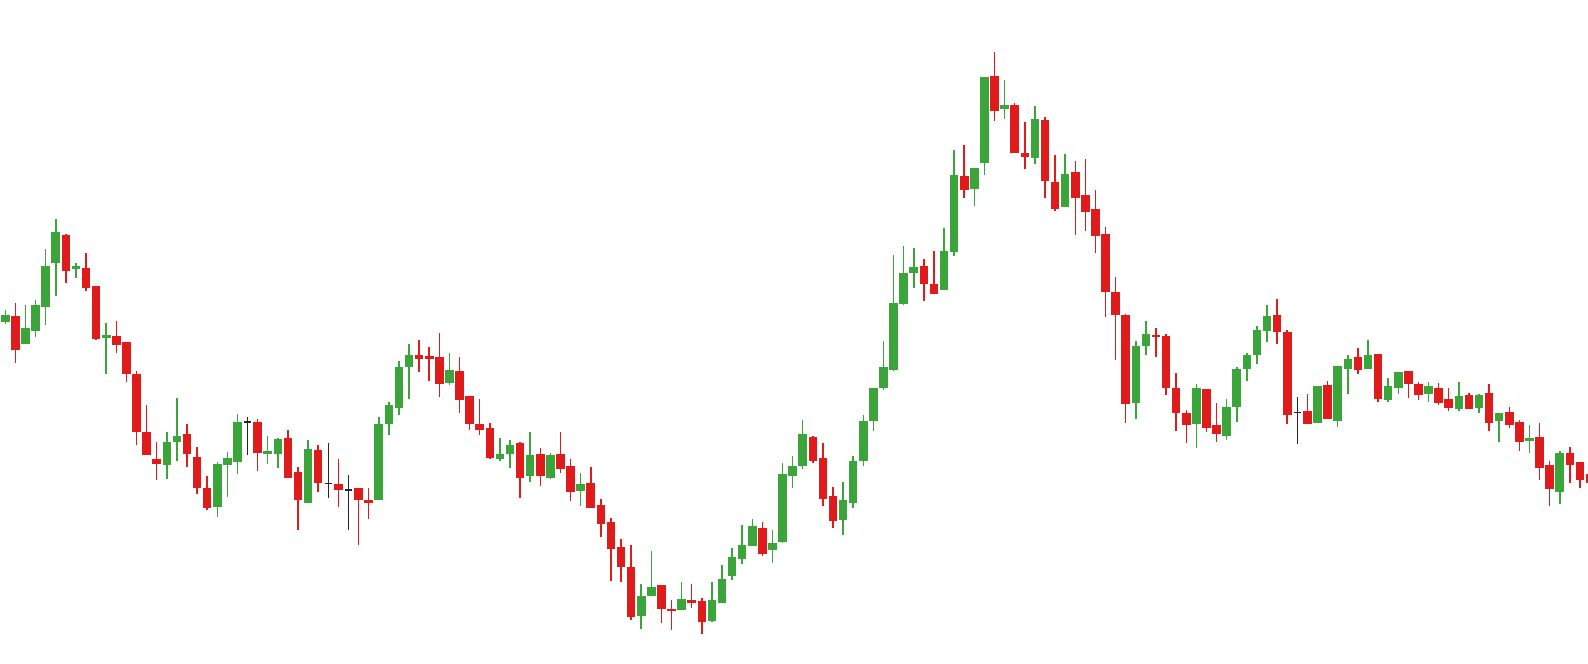buy: (1114, 346, 1204, 458), (294, 463, 386, 550)
